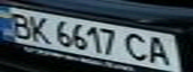1: (84, 24, 103, 53)
6: (51, 18, 72, 48), (66, 21, 87, 51)
7: (100, 26, 121, 56)
A: (145, 34, 175, 66)
B: (3, 9, 36, 39)
C: (121, 30, 151, 62)
K: (24, 14, 54, 44)
